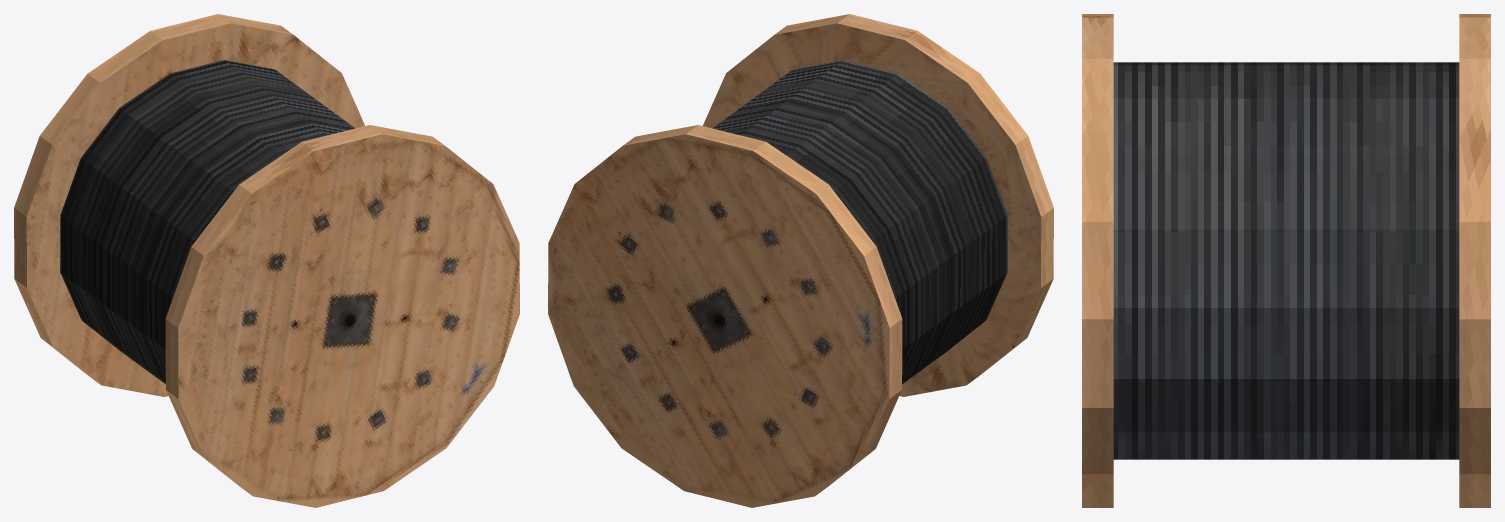
Rendered from cable_drum.glb.
The picture shows the model from 3 angles, left to right: view 1: azimuth 30°, elevation 25°; view 2: azimuth 150°, elevation 25°; view 3: azimuth 270°, elevation 25°; orthographic projection. The views are drawn at different scales.
Parts seen in each view (by area): view 1: CableDrum; view 2: CableDrum; view 3: CableDrum.
Part boxes in pixels (left/top/right/bottom): CableDrum: left=14, top=14, right=519, bottom=507; CableDrum: left=548, top=14, right=1053, bottom=507; CableDrum: left=1082, top=14, right=1490, bottom=507.
Size of the model in its own units: 1.18 by 1.18 by 0.9808.
1 material, 1 textured.
